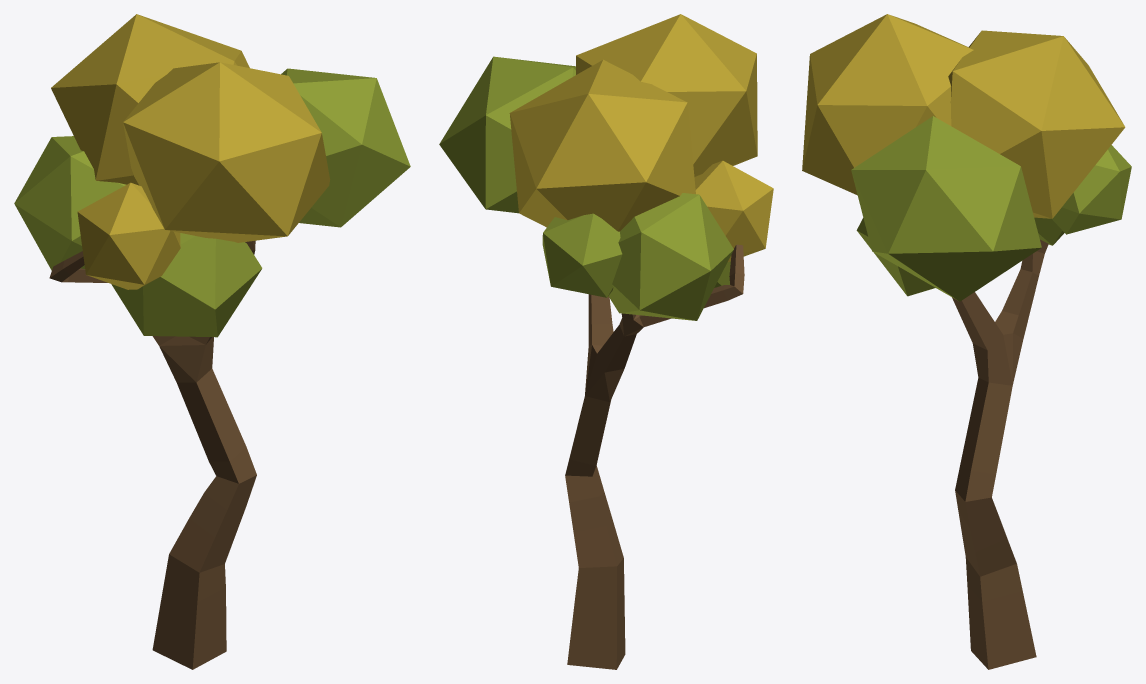
The model's file is ico_tree_yellow3.glb.
3 renders of one model, left to right at view 1: azimuth 30°, elevation 25°; view 2: azimuth 150°, elevation 25°; view 3: azimuth 270°, elevation 25°, orthographic. The views are drawn at different scales.
Parts seen in each view (by area): view 1: Icosphere.001, Icosphere.006, Icosphere.007, Icosphere.002, Icosphere.003, Icosphere.004, Icosphere.008; view 2: Icosphere.007, Icosphere.006, Icosphere.001, Icosphere.008, Icosphere.002, Icosphere.005, Icosphere.004; view 3: Icosphere.002, Icosphere.007, Icosphere.006, Icosphere.001, Icosphere.005, Icosphere.003, Icosphere.008.
Boxes of the visible parts, x1=… form: Icosphere.001: x1=123, y1=62, x2=330, y2=242; Icosphere.006: x1=49, y1=240, x2=256, y2=669; Icosphere.007: x1=51, y1=14, x2=249, y2=185; Icosphere.002: x1=281, y1=68, x2=410, y2=227; Icosphere.003: x1=111, y1=233, x2=262, y2=337; Icosphere.004: x1=77, y1=182, x2=180, y2=289; Icosphere.008: x1=14, y1=136, x2=126, y2=270; Icosphere.007: x1=509, y1=59, x2=695, y2=231; Icosphere.006: x1=565, y1=244, x2=744, y2=669; Icosphere.001: x1=576, y1=14, x2=757, y2=176; Icosphere.008: x1=608, y1=193, x2=733, y2=320; Icosphere.002: x1=439, y1=56, x2=575, y2=213; Icosphere.005: x1=542, y1=213, x2=622, y2=297; Icosphere.004: x1=694, y1=160, x2=773, y2=261; Icosphere.002: x1=851, y1=116, x2=1041, y2=301; Icosphere.007: x1=948, y1=30, x2=1125, y2=218; Icosphere.006: x1=952, y1=239, x2=1048, y2=669; Icosphere.001: x1=802, y1=14, x2=973, y2=195; Icosphere.005: x1=1052, y1=145, x2=1131, y2=234; Icosphere.003: x1=856, y1=218, x2=935, y2=296; Icosphere.008: x1=1034, y1=217, x2=1064, y2=245.
Bounding box in the file's own units: 6.83 × 13.22 × 6.28.
